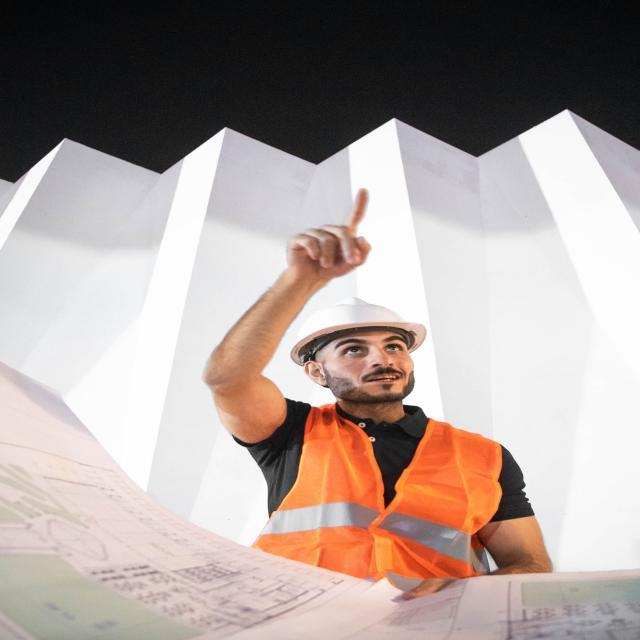helmet: (306, 283, 424, 371)
jacket: (300, 397, 516, 610)
